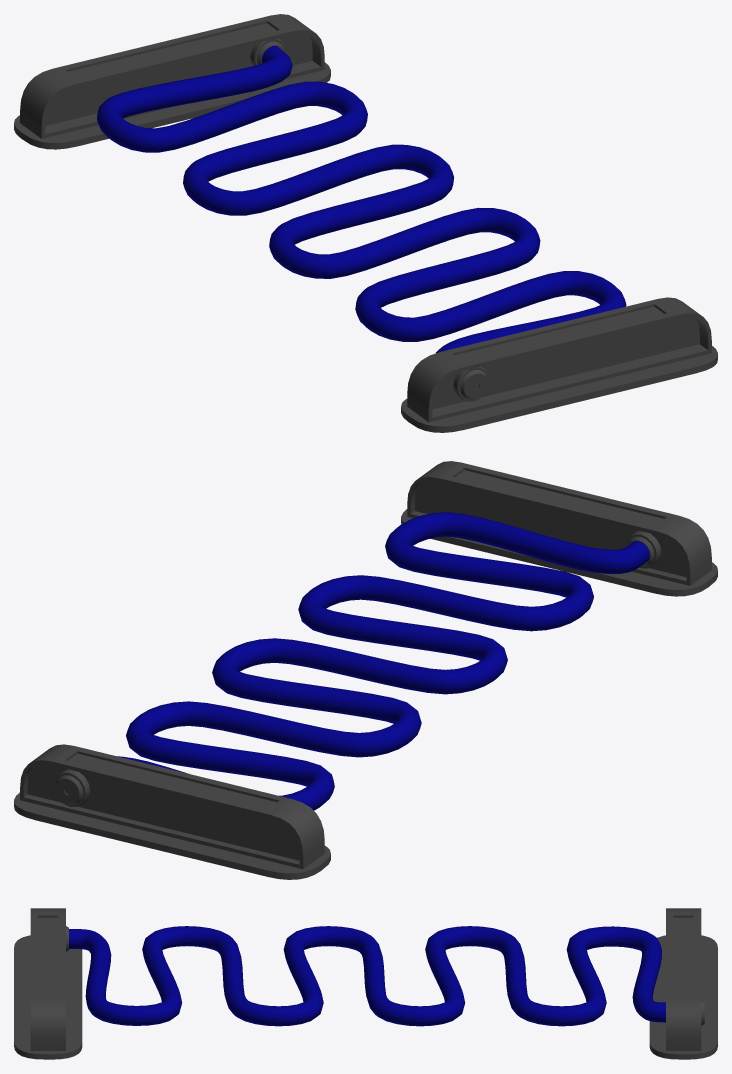
Rendered from SM_Light_lamps_lamp_3.fbx.
The picture shows the model from 3 angles, top to bottom: view 1: azimuth 30°, elevation 25°; view 2: azimuth 150°, elevation 25°; view 3: azimuth 270°, elevation 25°; orthographic projection. The views are drawn at different scales.
Parts seen in each view (by area): view 1: SM_Light_lamps_lamp_3; view 2: SM_Light_lamps_lamp_3; view 3: SM_Light_lamps_lamp_3.
Boxes of the visible parts, bbox=[...] form: SM_Light_lamps_lamp_3: bbox=[14, 14, 717, 432]; SM_Light_lamps_lamp_3: bbox=[14, 461, 717, 879]; SM_Light_lamps_lamp_3: bbox=[14, 908, 717, 1059].
Bounding box in the file's own units: 42.39 × 7.15 × 105.
